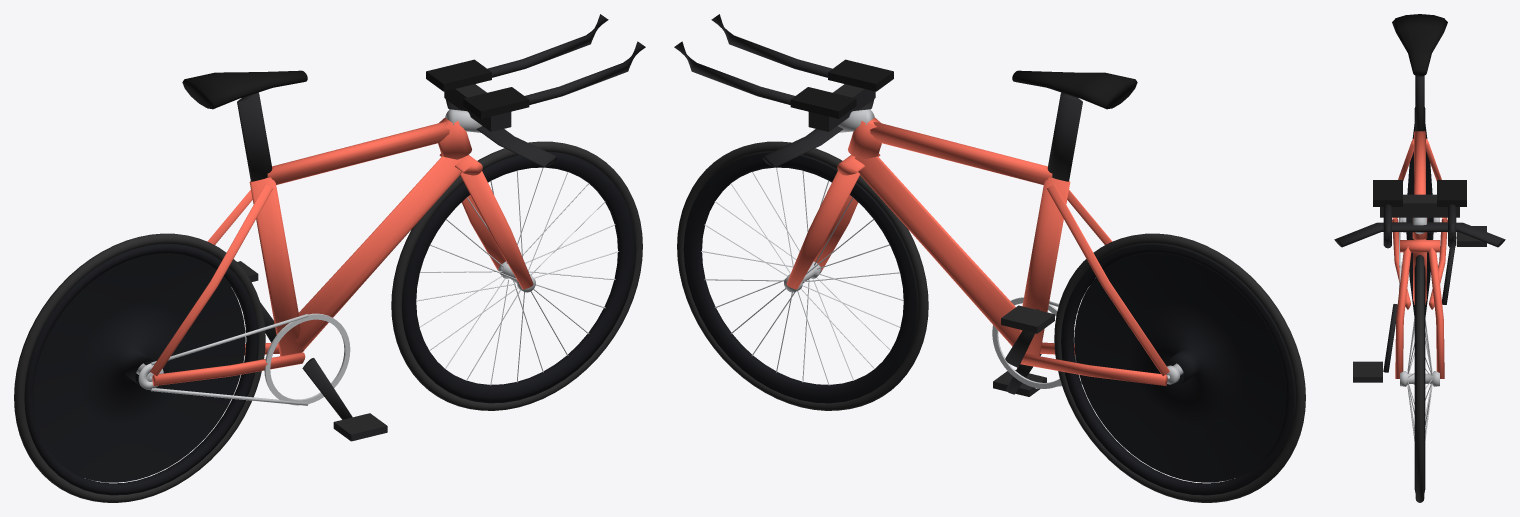
File: bike.glb
The picture shows the model from 3 angles, left to right: view 1: azimuth 30°, elevation 25°; view 2: azimuth 150°, elevation 25°; view 3: azimuth 270°, elevation 25°; orthographic projection. The views are drawn at different scales.
Visible parts, largest first — view 1: wheel_rear_disc, wheel_front_rim, wheel_rear_rim, wheel_rear_tyre, wheel_front_tyre, down_tube, seat_tube, top_tube, wheel_front_spokes, saddle, fork_l, seatstay_l (+13 smaller); view 2: wheel_rear_disc, wheel_front_rim, wheel_rear_rim, wheel_rear_tyre, wheel_front_tyre, down_tube, top_tube, seat_tube, wheel_front_spokes, saddle, fork_r, seatstay_r (+12 smaller); view 3: wheel_front_tyre, saddle, base_bar, pad_riser, fork_l, fork_r, wheel_rear_disc, wheel_front_rim, wheel_front_spokes, armpad_l, armpad_r, top_tube (+14 smaller).
Boxes of the visible parts, x1,y1,x2,y2 form: wheel_rear_disc: (33, 253, 245, 482); wheel_front_rim: (401, 152, 636, 403); wheel_rear_rim: (24, 244, 258, 495); wheel_rear_tyre: (14, 233, 265, 502); wheel_front_tyre: (391, 141, 642, 410); down_tube: (295, 156, 465, 349); seat_tube: (249, 177, 304, 356); top_tube: (267, 122, 449, 184); wheel_front_spokes: (416, 167, 618, 385); saddle: (182, 70, 307, 109); fork_l: (459, 171, 533, 289); seatstay_l: (150, 184, 272, 375); wheel_rear_disc: (1074, 253, 1286, 482); wheel_front_rim: (683, 152, 918, 403); wheel_rear_rim: (1061, 244, 1295, 495); wheel_rear_tyre: (1054, 233, 1305, 502); wheel_front_tyre: (677, 141, 928, 410); down_tube: (854, 156, 1020, 346); top_tube: (870, 122, 1052, 184); seat_tube: (1019, 177, 1070, 356); wheel_front_spokes: (701, 167, 903, 385); saddle: (1012, 70, 1137, 109); fork_r: (786, 171, 860, 289); seatstay_r: (1047, 184, 1169, 375); wheel_front_tyre: (1415, 255, 1424, 502); saddle: (1392, 14, 1447, 76); base_bar: (1334, 222, 1505, 247); pad_riser: (1380, 194, 1459, 217); fork_l: (1395, 246, 1411, 378); fork_r: (1428, 246, 1444, 378); wheel_rear_disc: (1406, 124, 1433, 316); wheel_front_rim: (1414, 265, 1425, 492); wheel_front_spokes: (1407, 317, 1432, 440); armpad_l: (1373, 180, 1402, 206); armpad_r: (1437, 180, 1466, 206); top_tube: (1414, 131, 1425, 194).
Bounding box in the file's own units: 1.55 × 0.9483 × 0.4281.
